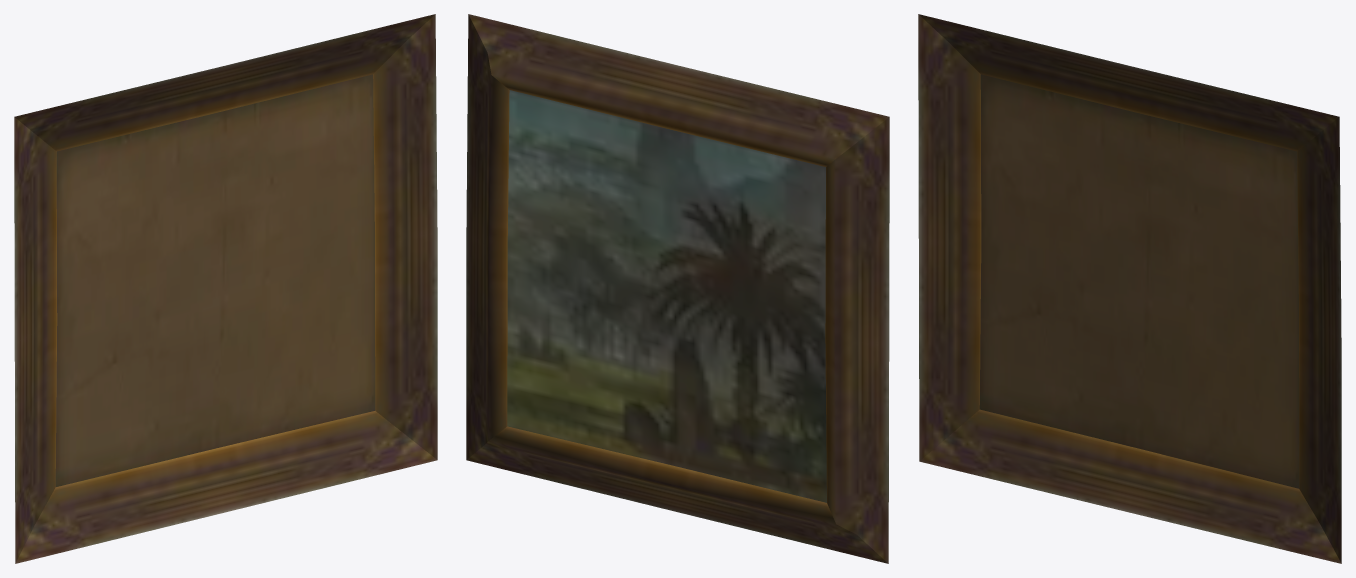
File: eso_gu2_painting2-transformed.glb
3 renders of one model, left to right at view 1: azimuth 30°, elevation 25°; view 2: azimuth 150°, elevation 25°; view 3: azimuth 330°, elevation 25°, orthographic.
Parts seen in each view (by area): view 1: default; view 2: default; view 3: default.
Boxes of the visible parts, x1,y1,x2,y2 form: default: (14, 14, 437, 563); default: (466, 14, 889, 563); default: (918, 14, 1341, 563).
Bounding box in the file's own units: 1.29 × 1.3 × 0.0814.
1 material, 1 textured.
